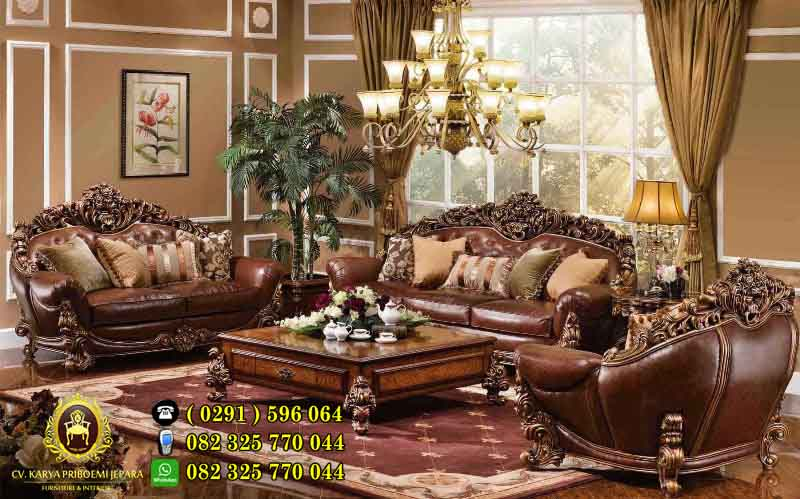Carving Table: (215, 319, 493, 437)
